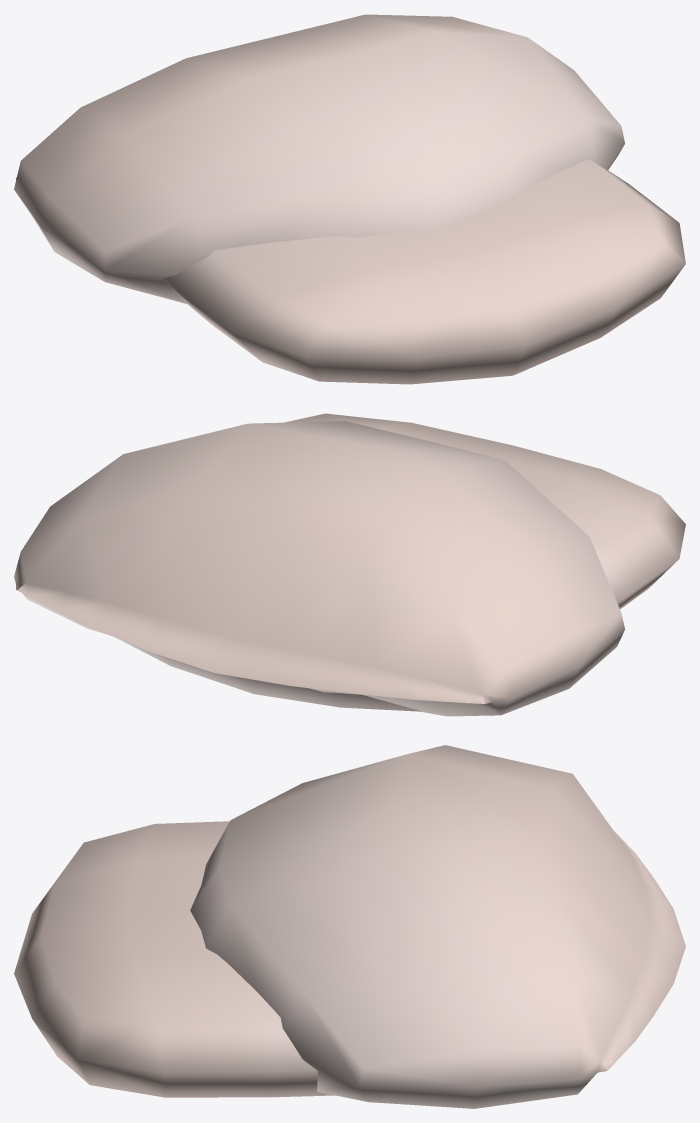
Rendered from sit_test.005.obj.
The picture shows the model from 3 angles, top to bottom: view 1: azimuth 30°, elevation 25°; view 2: azimuth 150°, elevation 25°; view 3: azimuth 270°, elevation 25°; orthographic projection. The views are drawn at different scales.
Parts seen in each view (by area): view 1: sit_test.005_sit_test.038; view 2: sit_test.005_sit_test.038; view 3: sit_test.005_sit_test.038.
Boxes of the visible parts, left/top/right/bottom form: sit_test.005_sit_test.038: left=14, top=14, right=685, bottom=384; sit_test.005_sit_test.038: left=14, top=413, right=685, bottom=716; sit_test.005_sit_test.038: left=14, top=745, right=685, bottom=1108.
Size of the model in its own units: 0.0601 by 0.0237 by 0.0601.
